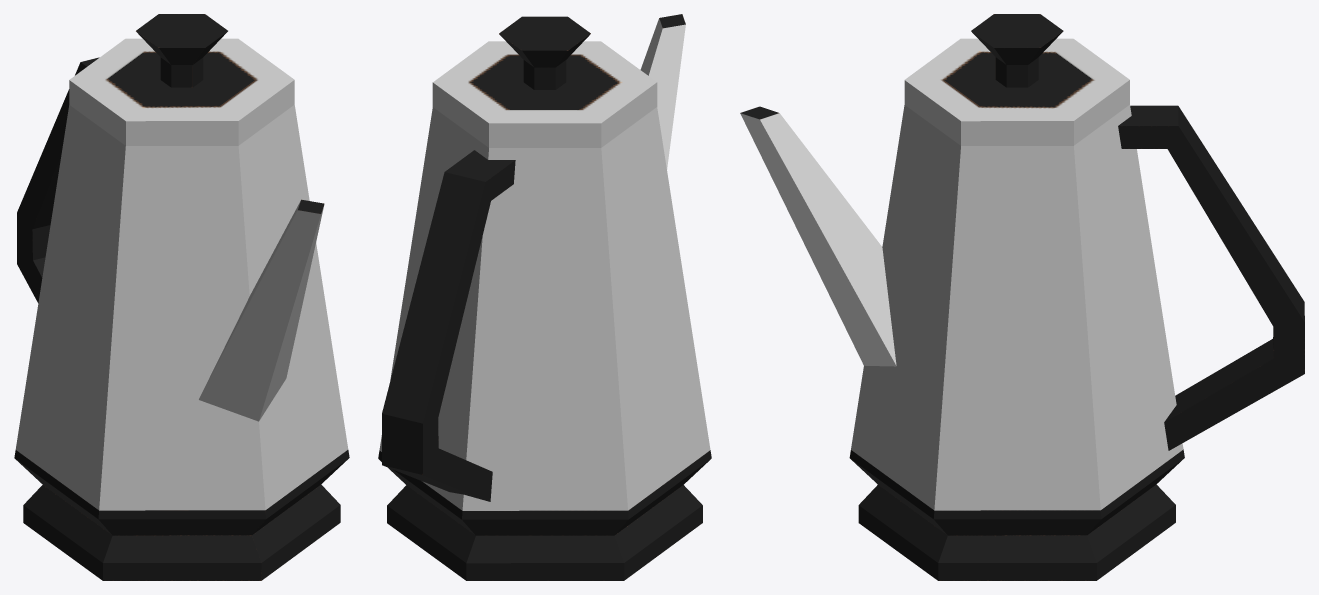
File: coffeepot1_PLY 1.fbx
The picture shows the model from 3 angles, left to right: view 1: azimuth 30°, elevation 25°; view 2: azimuth 150°, elevation 25°; view 3: azimuth 270°, elevation 25°; orthographic projection.
Parts seen in each view (by area): view 1: coffeepot1_PLY; view 2: coffeepot1_PLY; view 3: coffeepot1_PLY.
Boxes of the visible parts, <box> form: coffeepot1_PLY: <box>14,14,349,580</box>; coffeepot1_PLY: <box>378,14,711,580</box>; coffeepot1_PLY: <box>740,14,1304,580</box>.
Size of the model in its own units: 0.5874 by 1.1 by 1.14.
